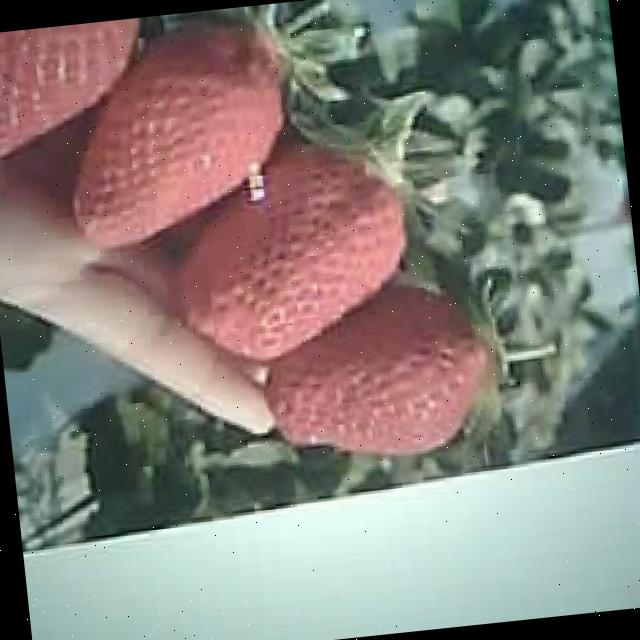strawberry: (55, 17, 314, 250), (167, 138, 417, 366), (262, 281, 504, 466)
